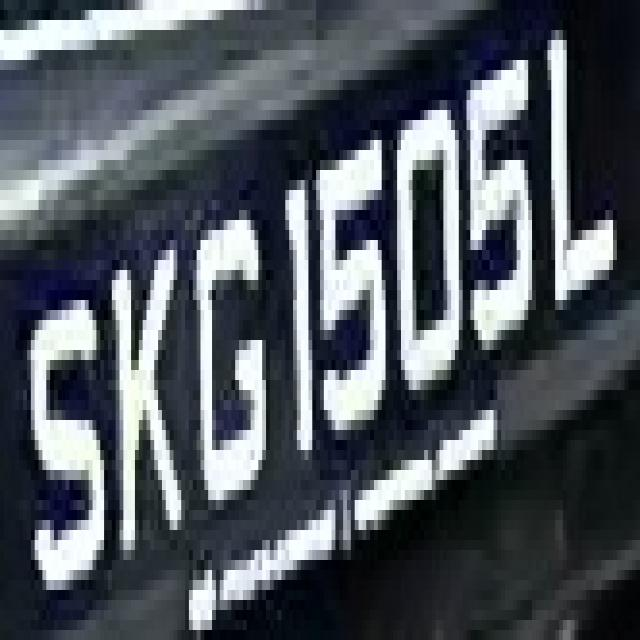0: (386, 80, 470, 420)
1: (281, 150, 320, 500)
5: (308, 130, 394, 450), (459, 60, 540, 380)
G: (193, 190, 281, 520)
K: (100, 230, 189, 570)
L: (540, 0, 628, 310)
S: (23, 270, 104, 620)
